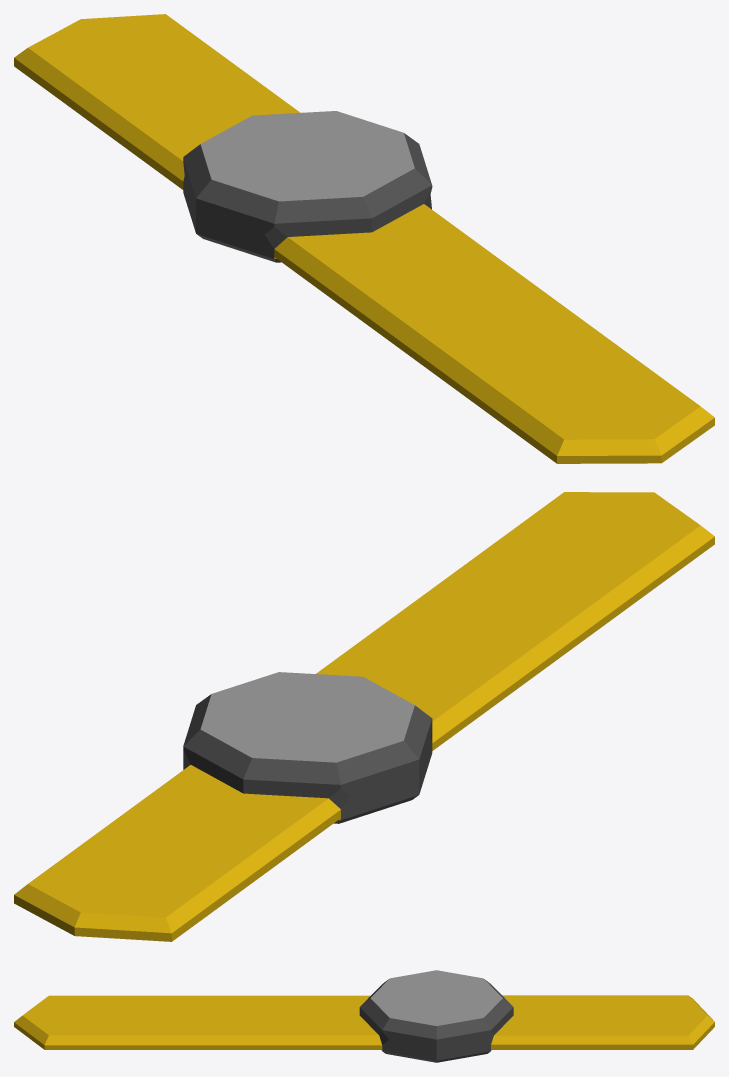
File: Watch.fbx
3 views of the same model, one above another, from view 1: azimuth 30°, elevation 25°; view 2: azimuth 150°, elevation 25°; view 3: azimuth 270°, elevation 25° (orthographic). The views are drawn at different scales.
Visible parts, largest first — view 1: Watch; view 2: Watch; view 3: Watch.
Part boxes in pixels (x1=…): Watch: x1=14, y1=14, x2=714, y2=463; Watch: x1=14, y1=492, x2=714, y2=941; Watch: x1=14, y1=970, x2=714, y2=1062.
Size of the model in its own units: 0.0876 by 0.0215 by 0.399.
Materials: 1 (1 with a texture image).
